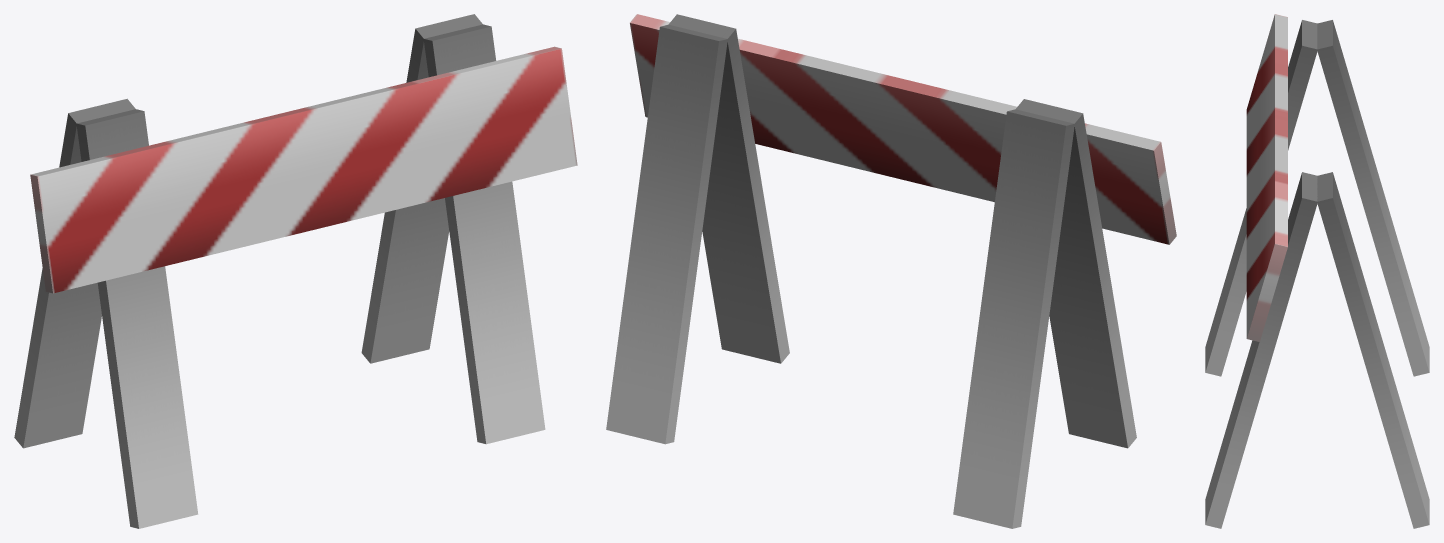
The model's file is barrier1.fbx.
3 views of the same model, side by side, from view 1: azimuth 30°, elevation 25°; view 2: azimuth 150°, elevation 25°; view 3: azimuth 270°, elevation 25° (orthographic). The views are drawn at different scales.
Visible parts, largest first — view 1: barrier; view 2: barrier; view 3: barrier.
Part boxes in pixels (bbox=[...]): barrier: bbox=[14, 14, 577, 528]; barrier: bbox=[606, 14, 1176, 528]; barrier: bbox=[1205, 14, 1429, 528].
Size of the model in its own units: 196 by 131 by 80.62.
1 material, 1 textured.
